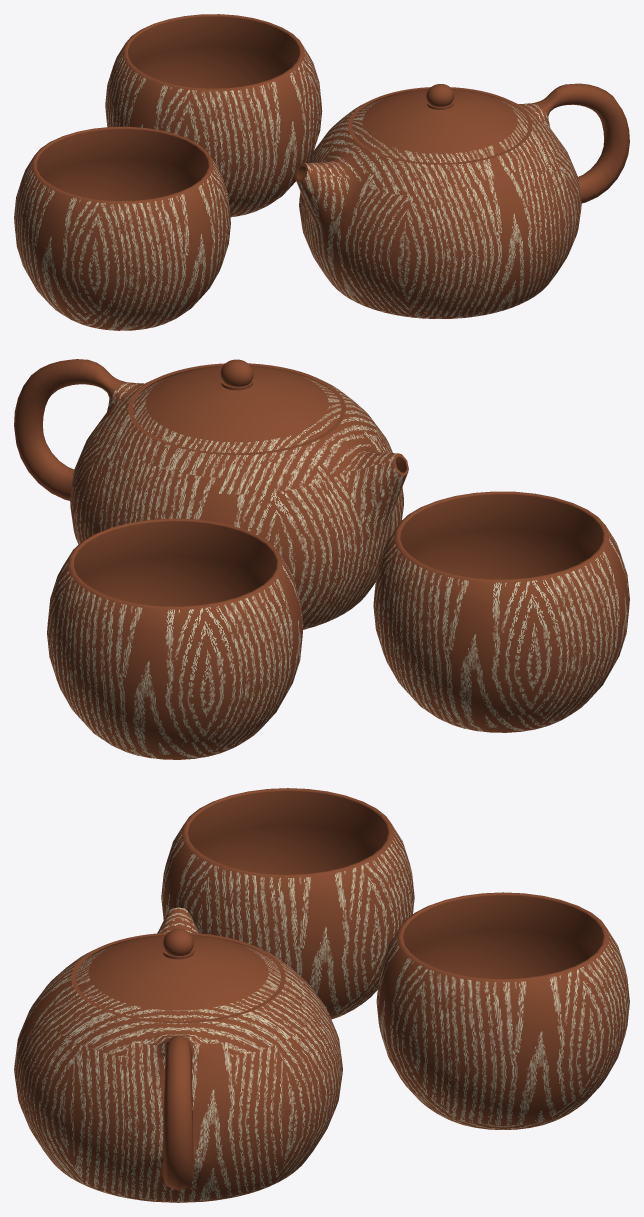
File: ChaHu.FBX
3 views of the same model, one above another, from view 1: azimuth 30°, elevation 25°; view 2: azimuth 150°, elevation 25°; view 3: azimuth 270°, elevation 25° (orthographic). The views are drawn at different scales.
Parts seen in each view (by area): view 1: ChaHu01, ChaHu03, ChaHu04, ChaHu02; view 2: ChaHu04, ChaHu03, ChaHu01, ChaHu02; view 3: ChaHu01, ChaHu04, ChaHu03, ChaHu02.
Part boxes in pixels (left/top/right/bottom): ChaHu01: left=295, top=83, right=629, bottom=318; ChaHu03: left=14, top=126, right=230, bottom=330; ChaHu04: left=105, top=14, right=322, bottom=217; ChaHu02: left=352, top=84, right=528, bottom=162; ChaHu04: left=47, top=518, right=303, bottom=759; ChaHu03: left=373, top=491, right=629, bottom=732; ChaHu01: left=14, top=359, right=408, bottom=629; ChaHu02: left=133, top=359, right=341, bottom=453; ChaHu01: left=14, top=907, right=342, bottom=1202; ChaHu04: left=376, top=892, right=629, bottom=1129; ChaHu03: left=161, top=788, right=414, bottom=1019; ChaHu02: left=76, top=929, right=280, bottom=1021.
Bounding box in the file's own units: 297 × 97.77 × 247.
2 materials, 2 textured.
